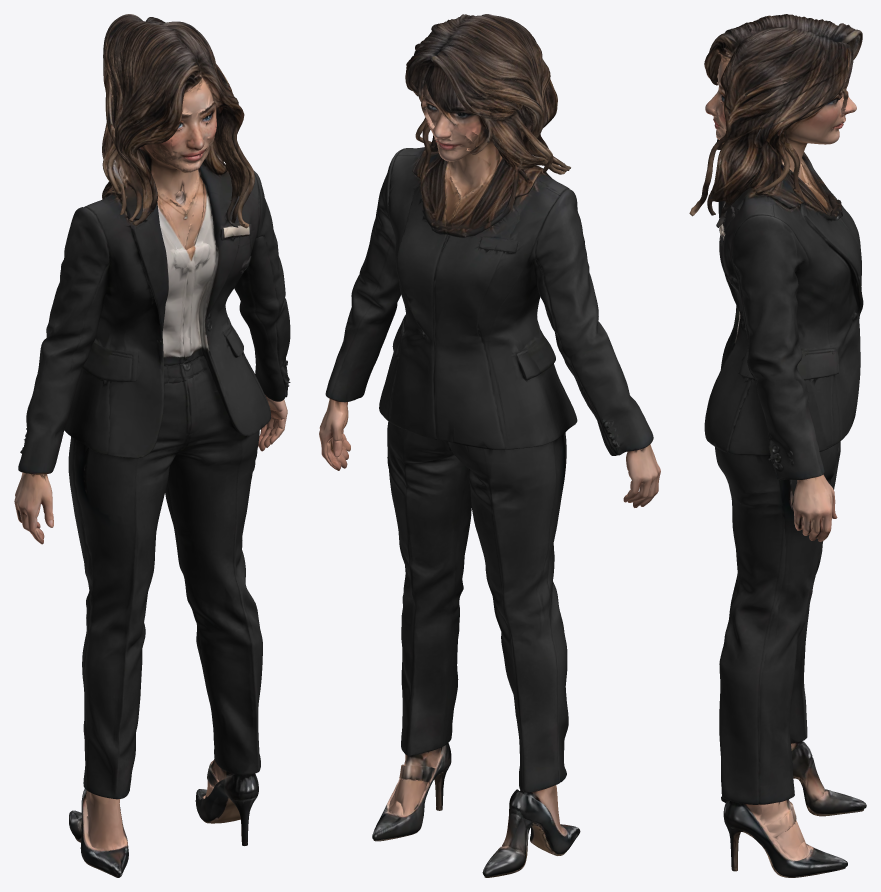
The model's file is alice.glb.
3 renders of one model, left to right at view 1: azimuth 30°, elevation 25°; view 2: azimuth 150°, elevation 25°; view 3: azimuth 270°, elevation 25°, orthographic.
Visible parts, largest first — view 1: tripo_node_57d345d5-e9a1-4013-ba75-aa467596f862; view 2: tripo_node_57d345d5-e9a1-4013-ba75-aa467596f862; view 3: tripo_node_57d345d5-e9a1-4013-ba75-aa467596f862.
Boxes of the visible parts, box(x1,y1,x2,y2) form: tripo_node_57d345d5-e9a1-4013-ba75-aa467596f862: box(14, 14, 290, 877); tripo_node_57d345d5-e9a1-4013-ba75-aa467596f862: box(319, 14, 660, 877); tripo_node_57d345d5-e9a1-4013-ba75-aa467596f862: box(689, 14, 866, 877).
Size of the model in its own units: 0.3759 by 0.9795 by 0.1911.
Materials: 1 (1 with a texture image).
